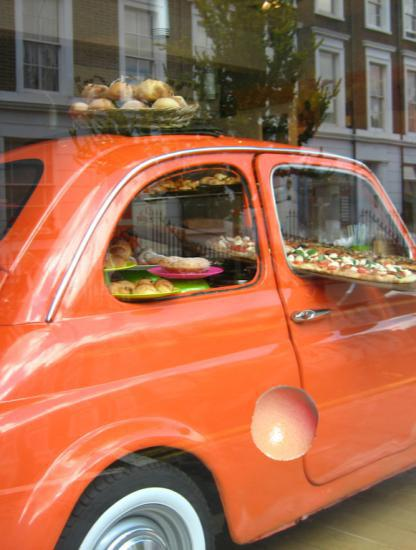Grapefruit: (246, 384, 324, 462)
